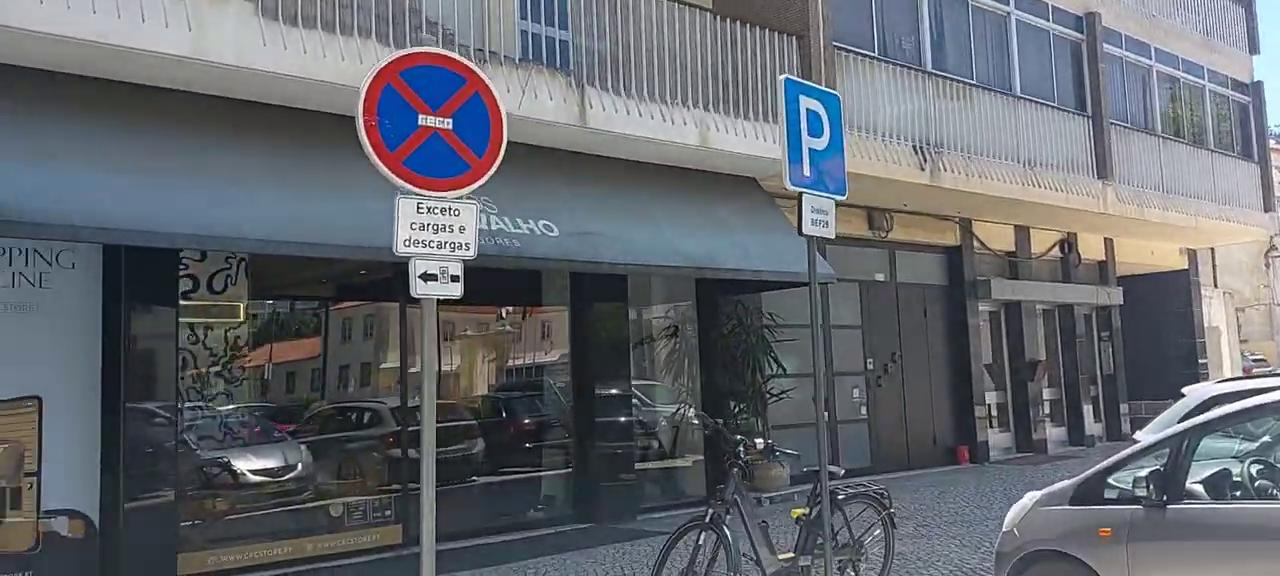Estacionamento autorizado: (781, 72, 853, 202)
paragem e estacionamento proibido: (325, 21, 540, 231)
